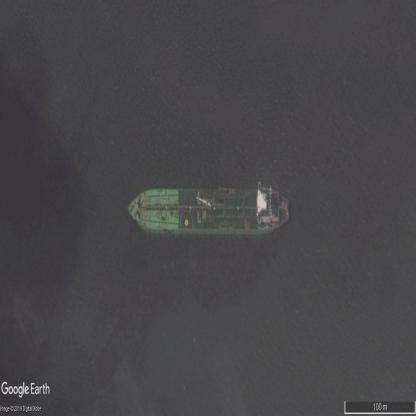ship: (129, 186, 290, 238)
